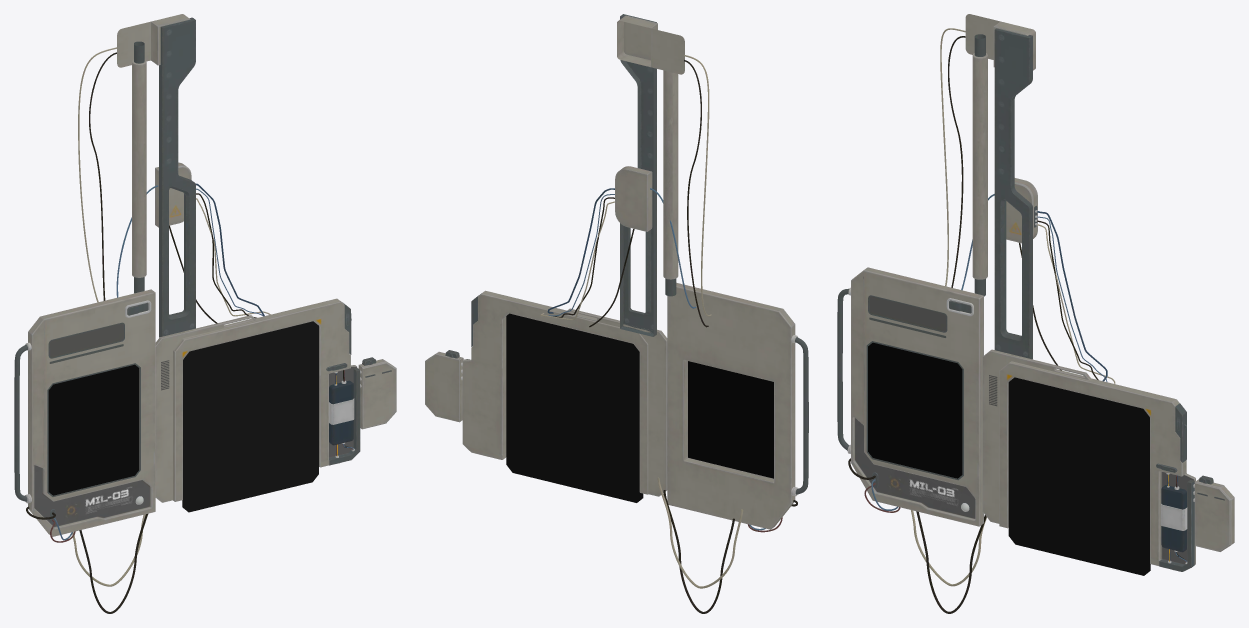
Rendered from FlyingDisplay-transformed.glb.
The picture shows the model from 3 angles, left to right: view 1: azimuth 30°, elevation 25°; view 2: azimuth 150°, elevation 25°; view 3: azimuth 330°, elevation 25°; orthographic projection. The views are drawn at different scales.
Visible parts, largest first — view 1: Body, Big_Display, Small_Display; view 2: Body, Big_Display, Small_Display; view 3: Body, Big_Display, Small_Display.
Part boxes in pixels (box(x1,y1,x2,y2)): Body: box(14, 14, 396, 613); Big_Display: box(182, 321, 318, 512); Small_Display: box(48, 364, 139, 495); Body: box(425, 14, 808, 613); Big_Display: box(506, 313, 643, 502); Small_Display: box(688, 361, 773, 478); Body: box(837, 14, 1234, 613); Big_Display: box(1008, 377, 1150, 575); Small_Display: box(868, 342, 962, 478).
Bounding box in the file's own units: 1.53 × 2.21 × 0.1756.
Materials: 3 (1 with a texture image).
